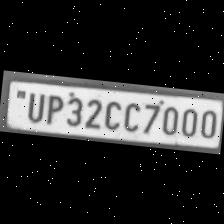0: (156, 101, 181, 135), (177, 103, 200, 137), (196, 105, 219, 138)
2: (80, 93, 104, 129)
3: (62, 92, 84, 128)
7: (139, 100, 160, 134)
C: (120, 96, 142, 132), (100, 96, 122, 130)
P: (43, 90, 65, 126)
U: (22, 88, 45, 122)
